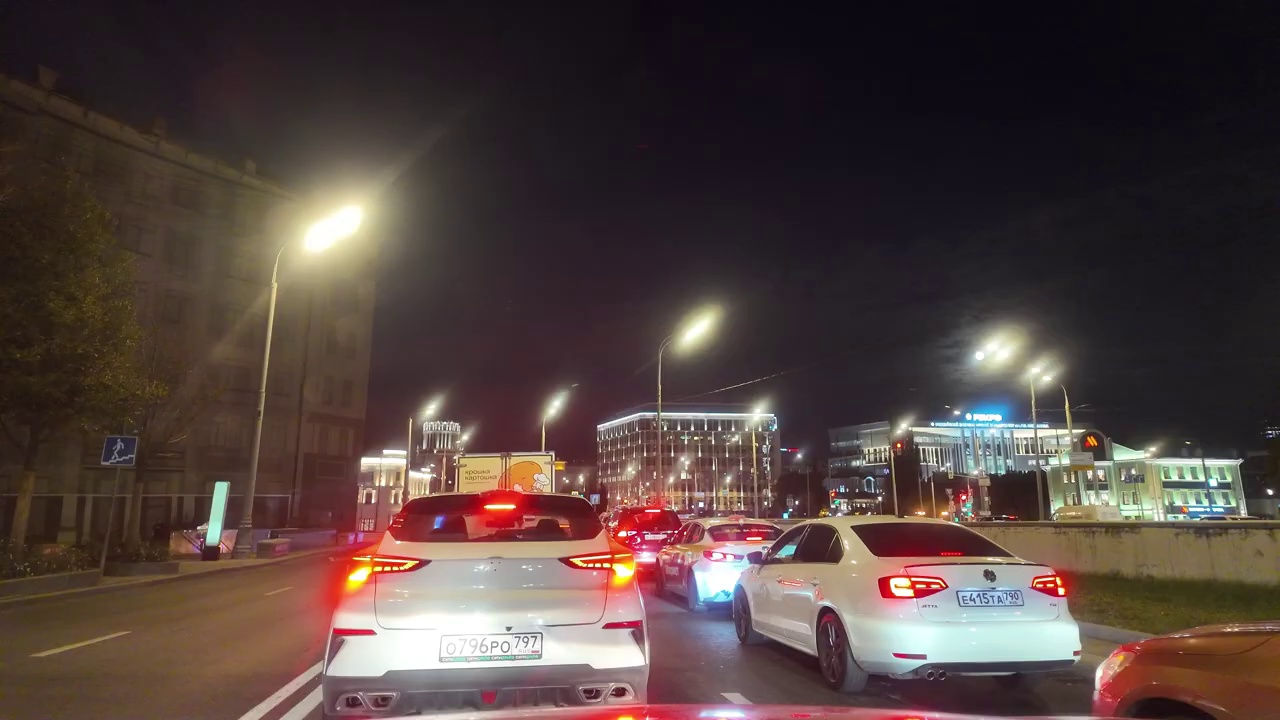acesa: (299, 203, 367, 258), (666, 302, 722, 359), (977, 327, 1025, 377), (539, 388, 571, 427)
